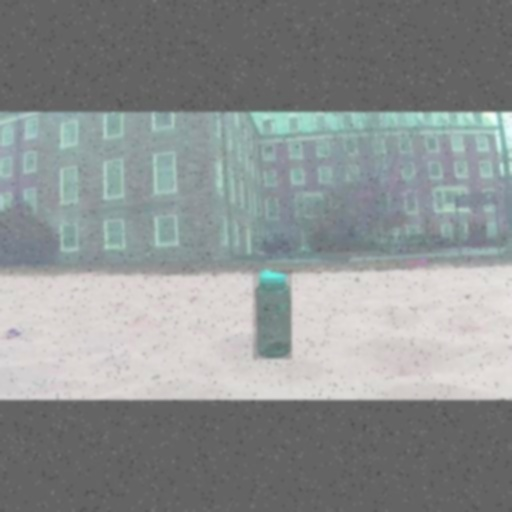bottle: (253, 270, 292, 360)
